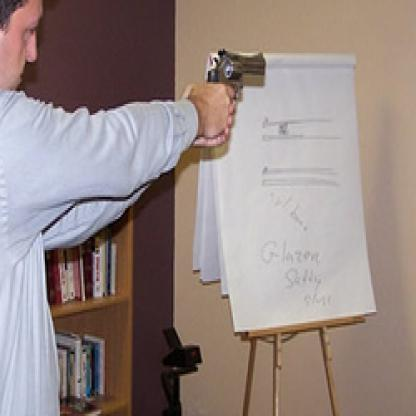gun: (188, 47, 273, 137)
